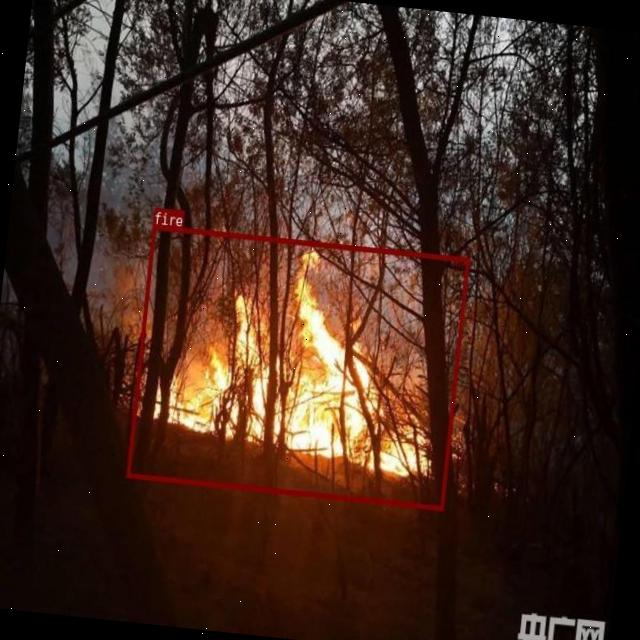fire: (126, 224, 468, 509)
